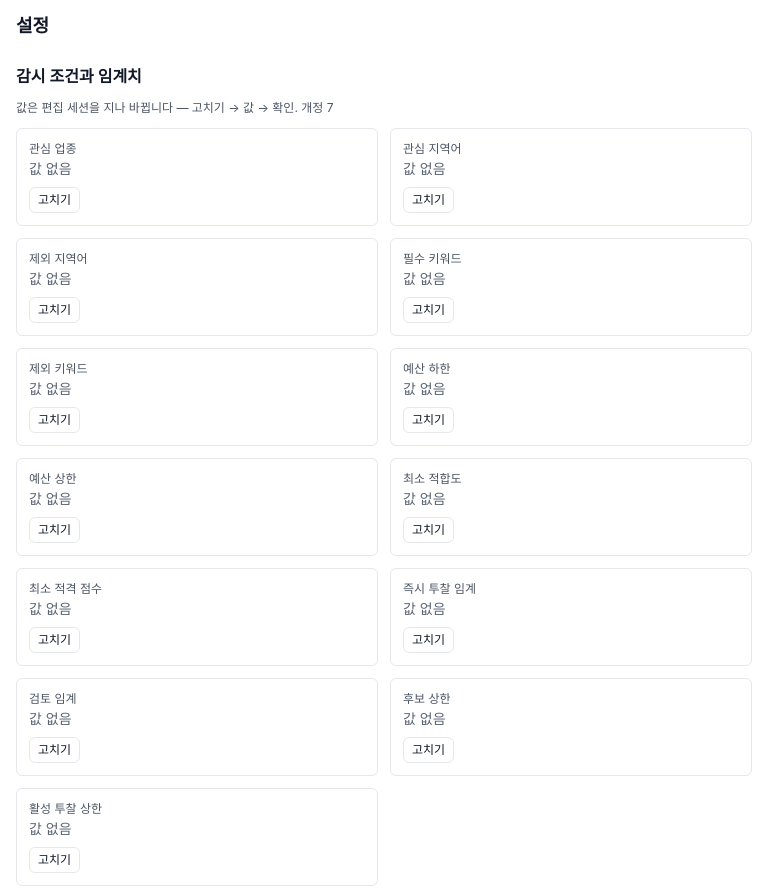
설정 — 전략은 편집 세션으로만 바뀐다 › 자리 구분 쉼표가 있으면 보내지 않고 받는 모양을 말한다
This screenshot has width=769, height=896.
Click the button "고치기" below "예산 상한" at (55, 530), box [29,517,80,543]
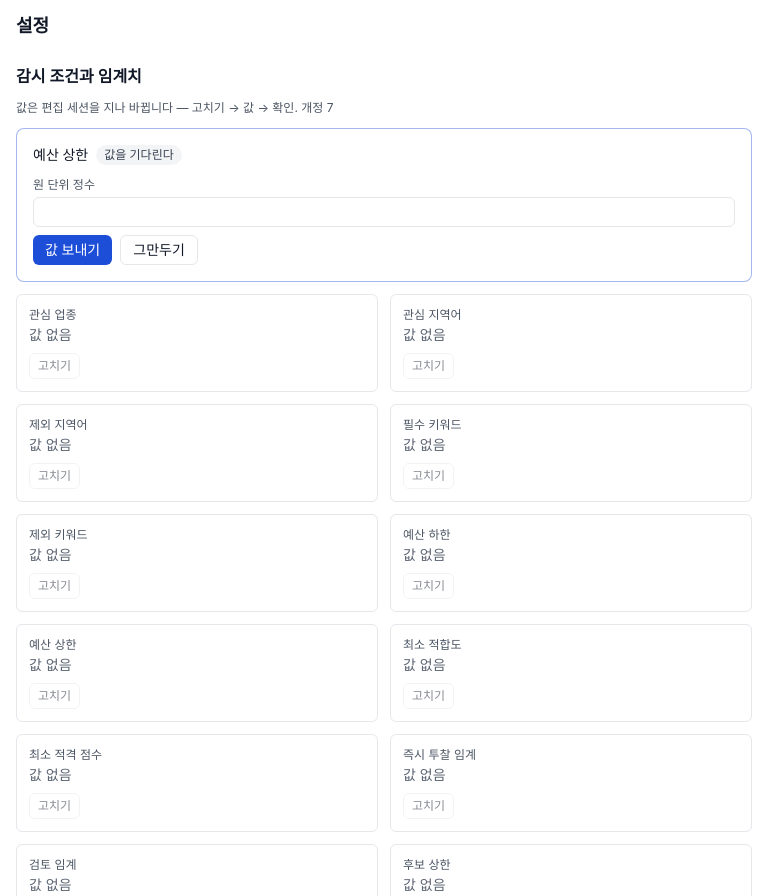
Expected: the element with test id "edit-session" is shown, [16,128,752,282]
Type "50,000,000" into the field named "예산 상한" at (384, 212), box [33,197,735,227]
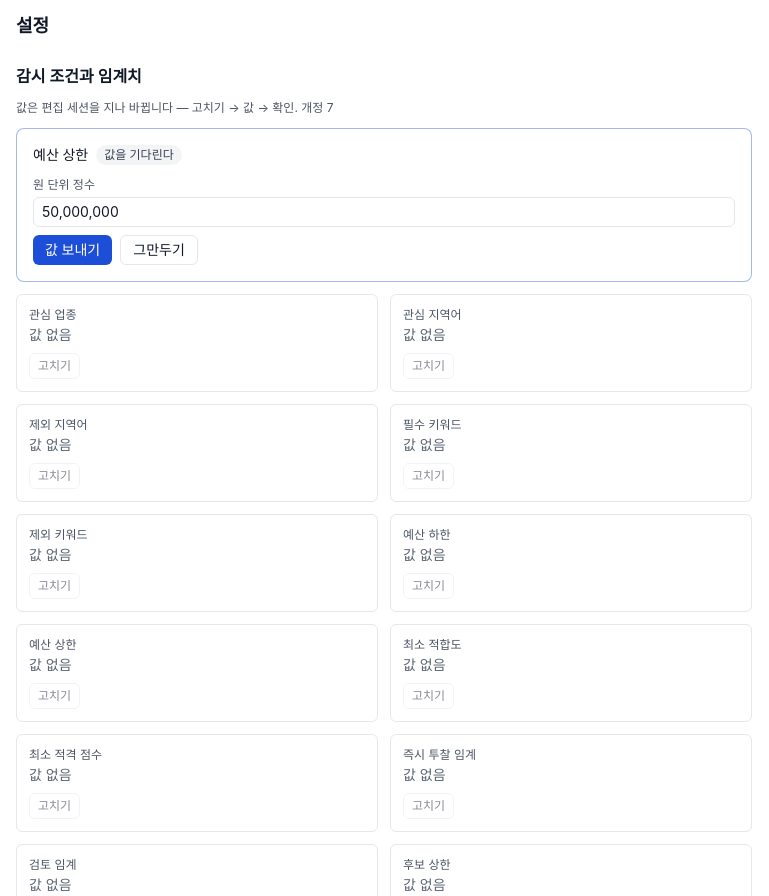
Click the button "값 보내기" at (73, 250), box [33,235,112,265]
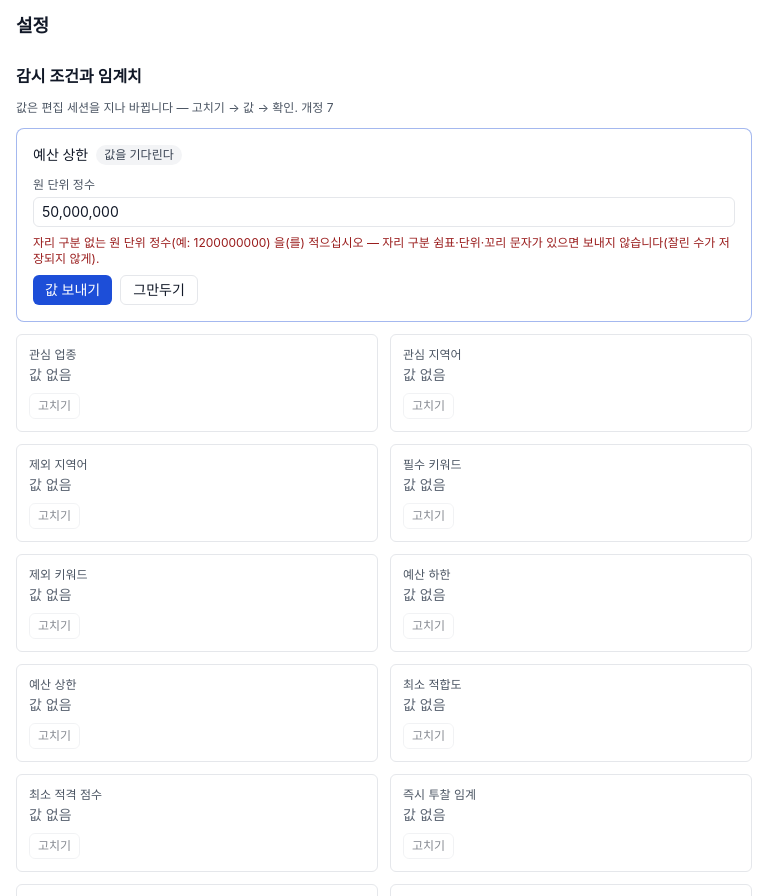
Expected: the message with test id "edit-value-missing" is shown, [33,235,735,267]
